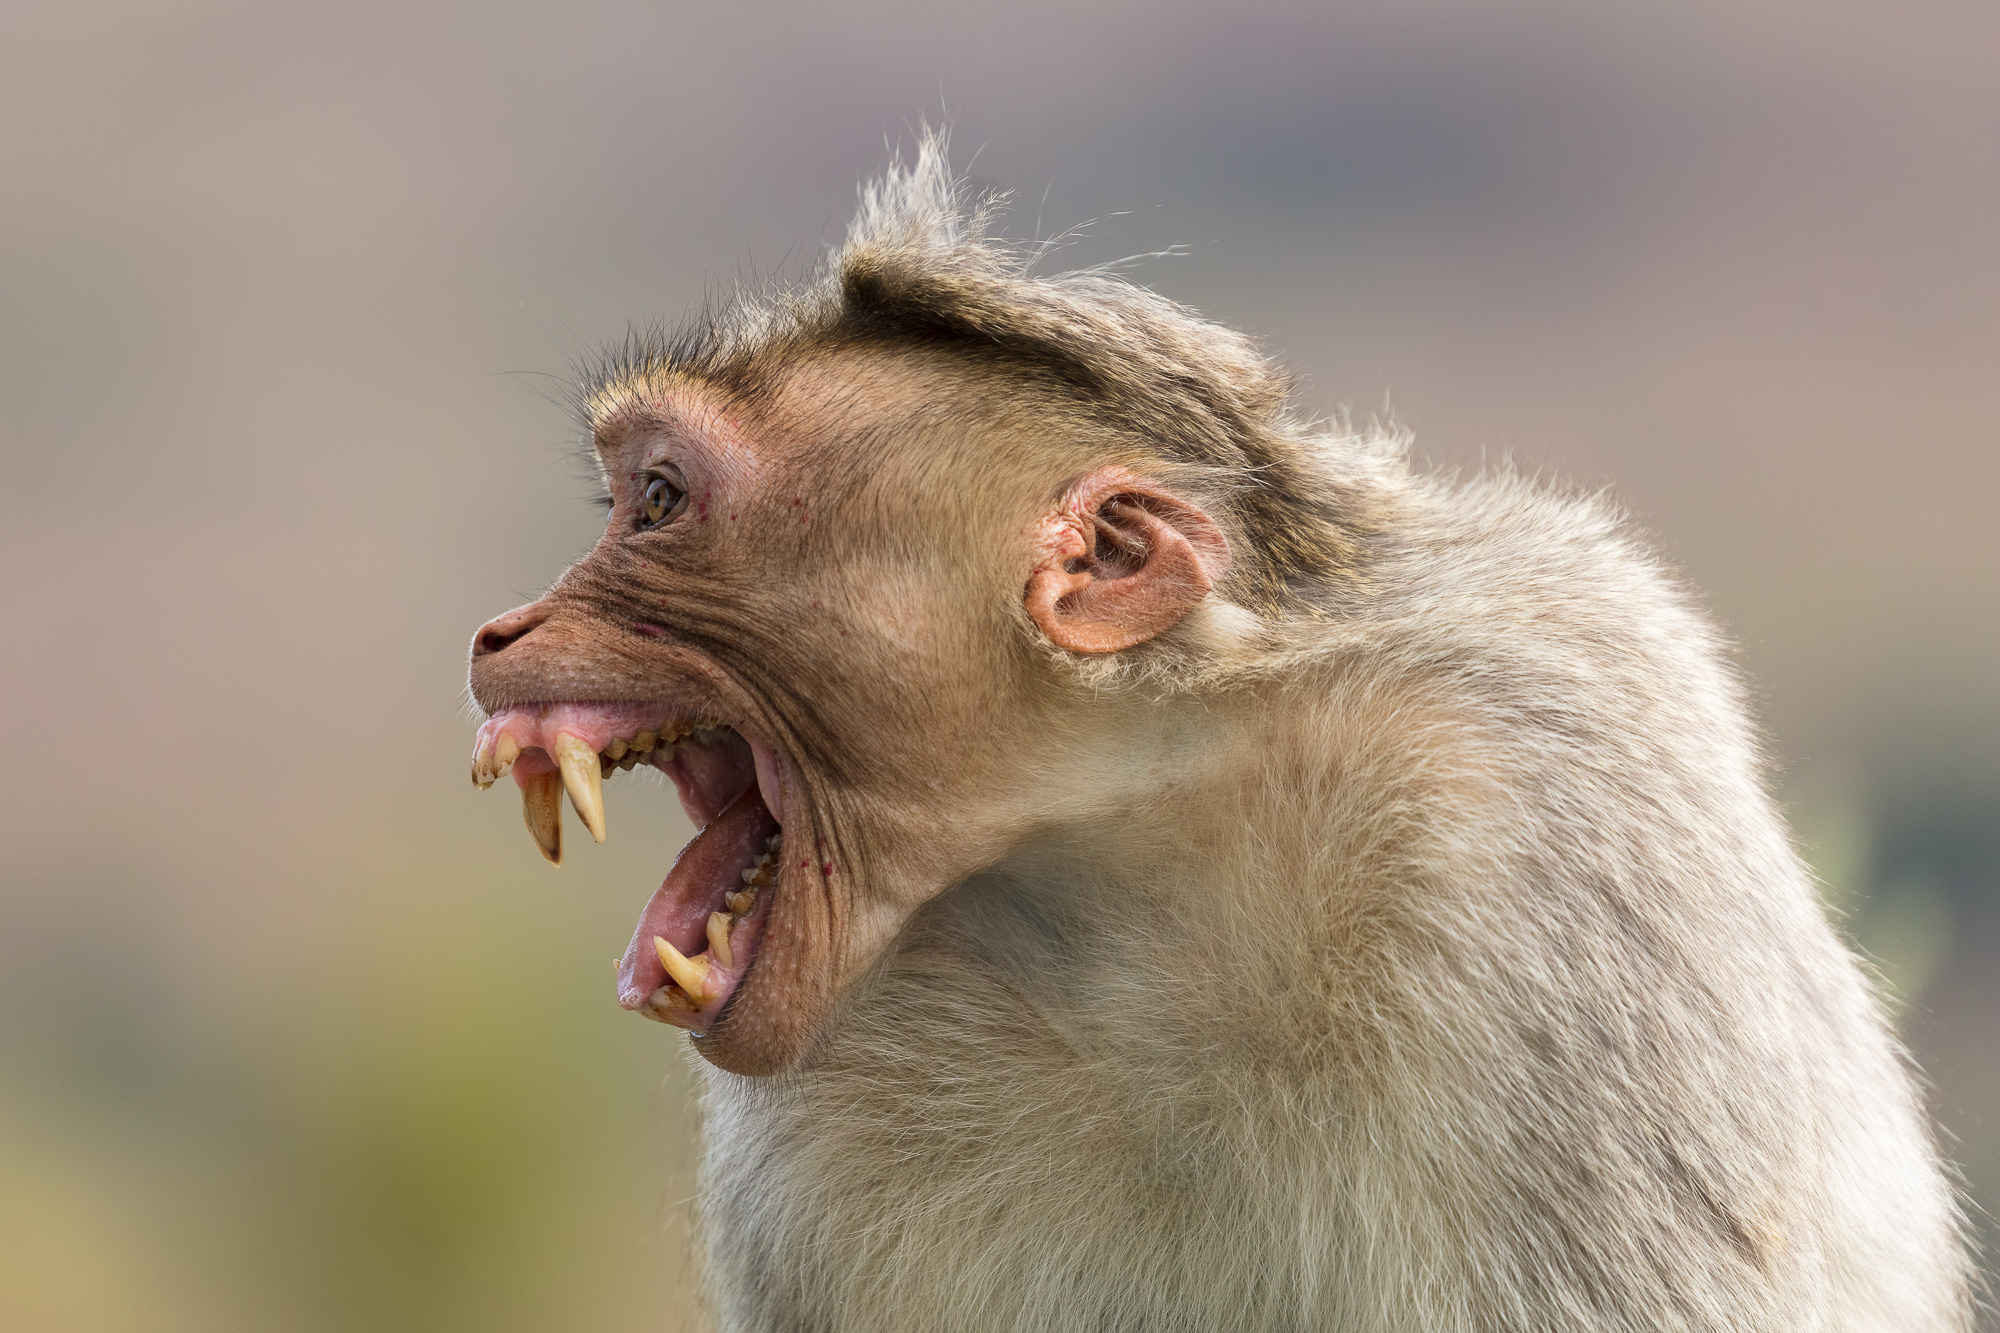monkey: (431, 118, 1988, 1333)
